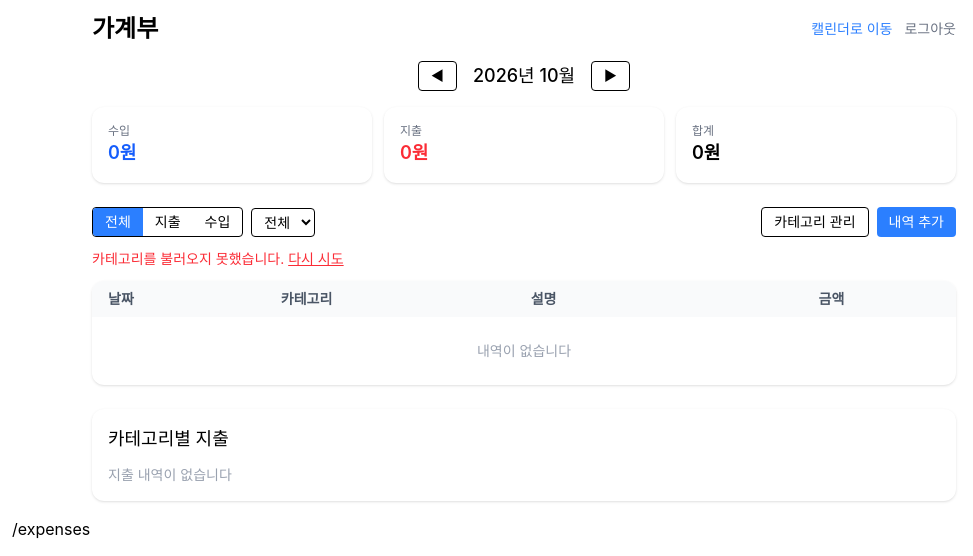
Test case: ExpensesPage › 렌더링 › loadCategories_whenRetryClickedAfterFailure_reloadsAndClearsError
Expected: the text "카테고리를 불러오지 못했습니다." is shown, [92,250,284,267]
Click the button "다시 시도" at (316, 259), box [288,249,344,269]
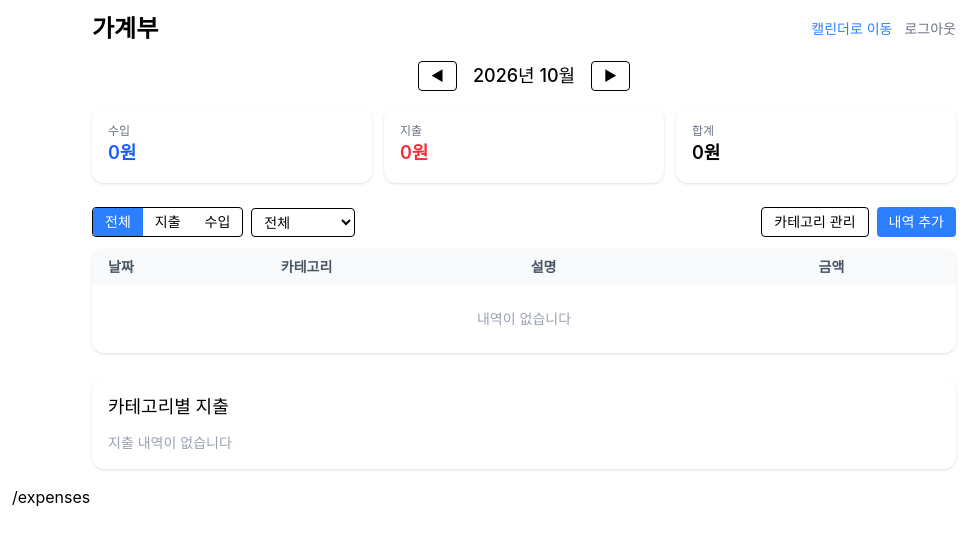
Expected: the text "카테고리를 불러오지 못했습니다." is gone
